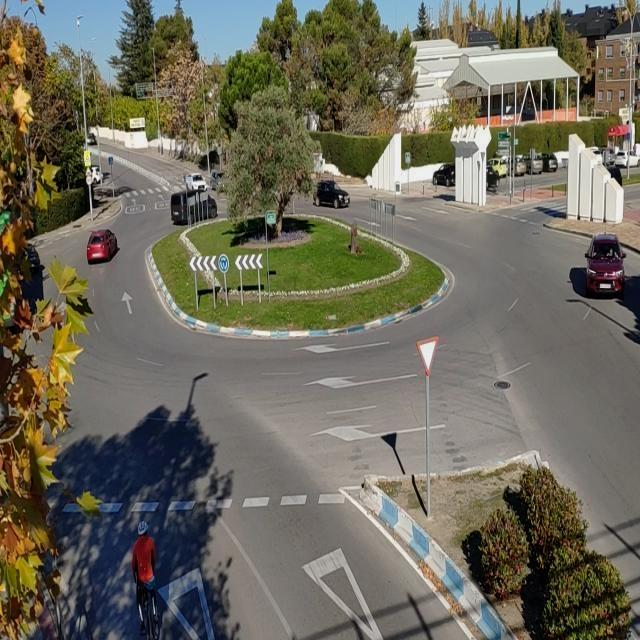Car: (578, 228, 631, 296), (86, 222, 123, 272), (168, 189, 221, 223), (312, 176, 358, 206), (427, 162, 468, 189), (208, 170, 232, 194), (84, 163, 107, 186), (183, 173, 208, 192)
Cycle: (117, 507, 178, 631)
